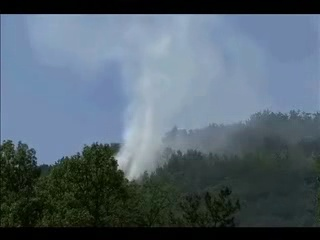smoke: (113, 12, 254, 183)
